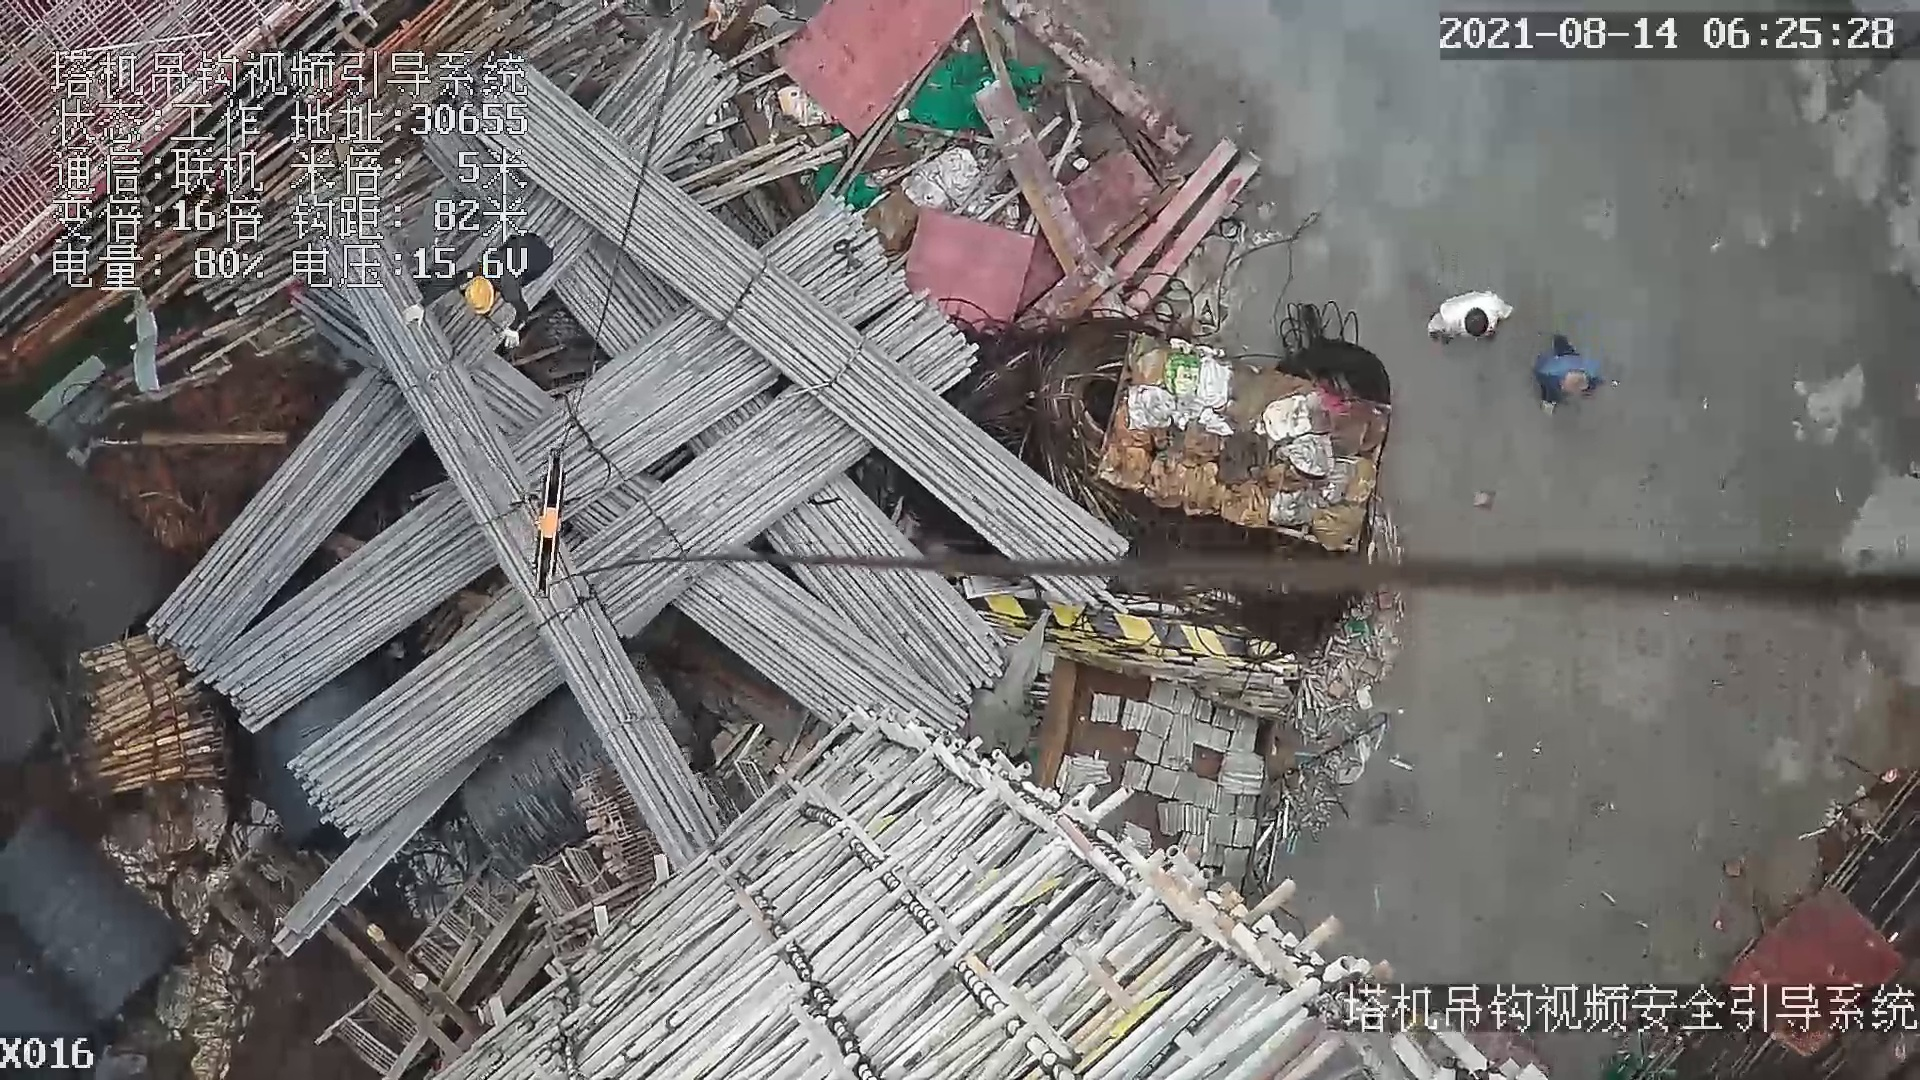helmet: (462, 276, 496, 318)
hook: (522, 444, 572, 605)
person: (405, 240, 555, 342), (1533, 333, 1609, 425), (1432, 301, 1526, 351)
